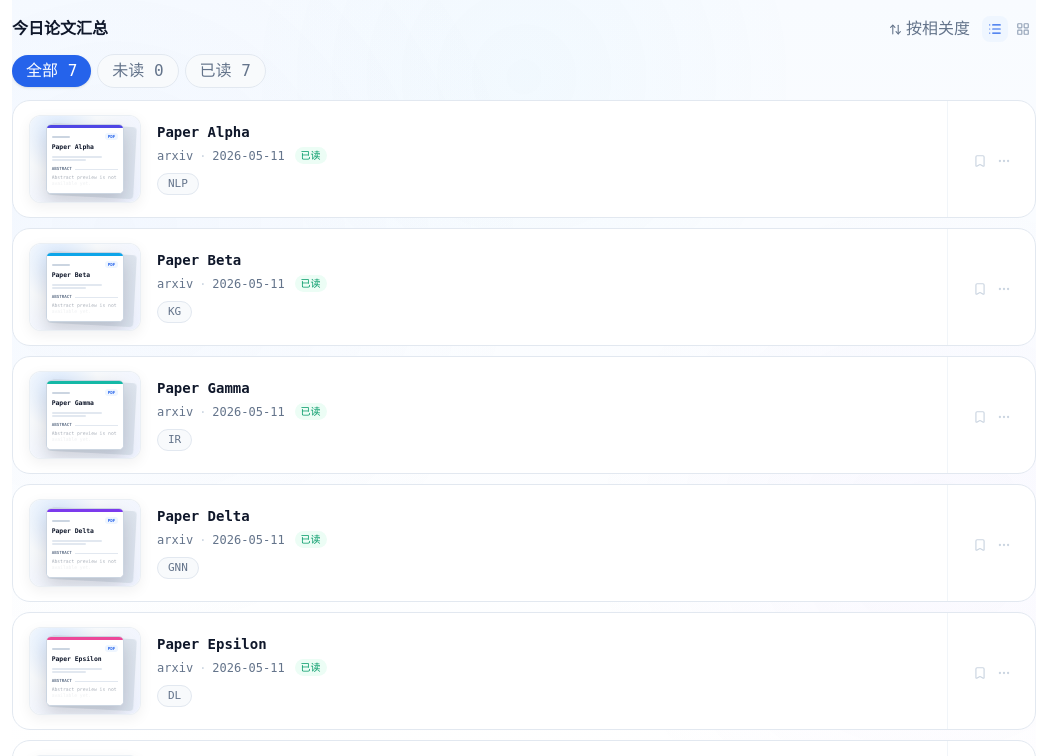
Test: WorkDashboardPage integration › displays empty state when filter yields zero results
The image size is (1048, 756).
Click the button "未读 0". click: [138, 71]
box: x1=97 y1=54 x2=179 y2=88
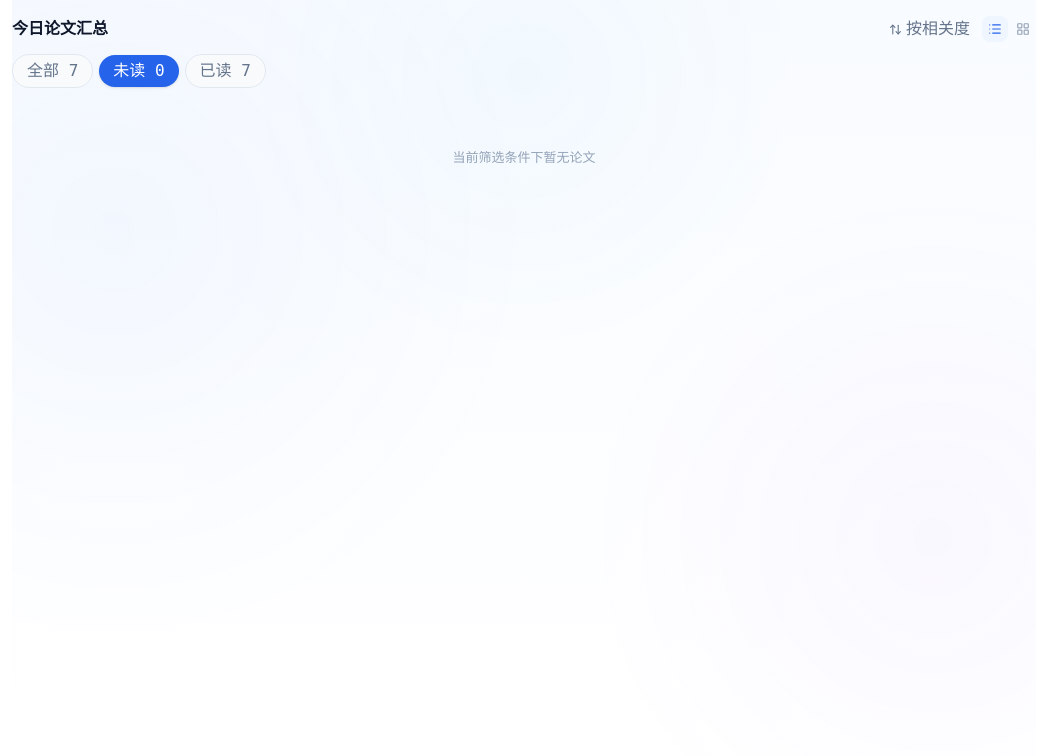
Expected: the text "当前筛选条件下暂无论文" is shown, x1=452 y1=150 x2=596 y2=165
